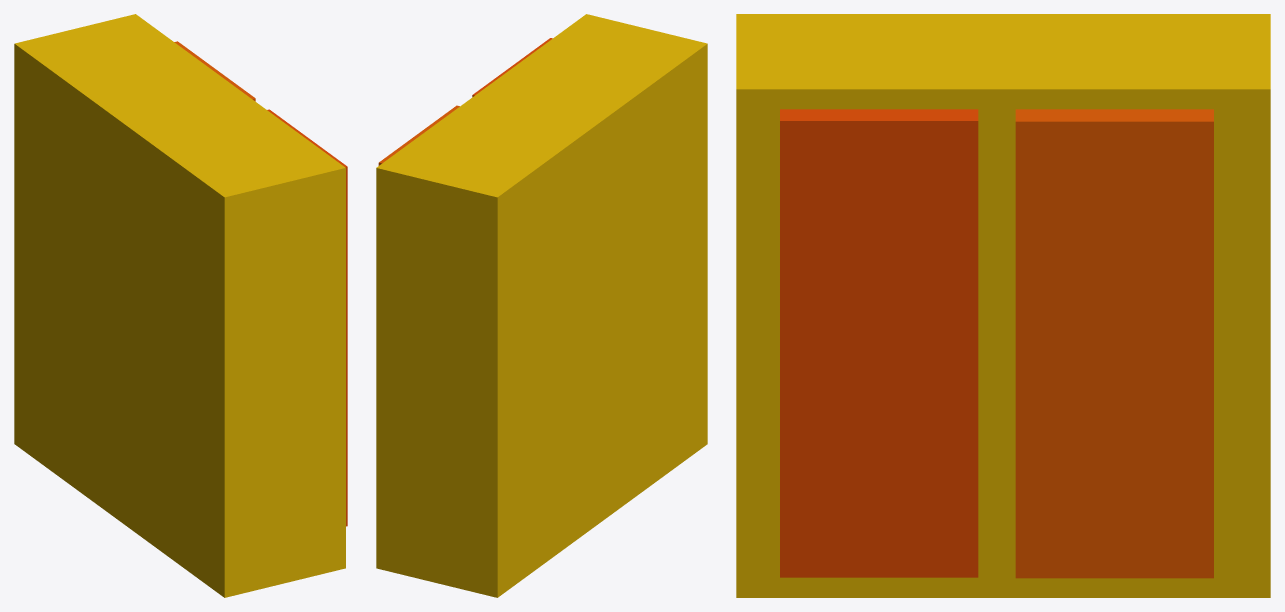
File: closet.fbx
3 renders of one model, left to right at view 1: azimuth 30°, elevation 25°; view 2: azimuth 150°, elevation 25°; view 3: azimuth 270°, elevation 25°, orthographic. The views are drawn at different scales.
Visible parts, largest first — view 1: Cube, Cube.002; view 2: Cube; view 3: Cube, Cube.001, Cube.002.
Part boxes in pixels (left/top/right/bottom): Cube: left=14, top=14, right=345, bottom=597; Cube.002: left=267, top=109, right=347, bottom=526; Cube: left=376, top=14, right=707, bottom=597; Cube: left=736, top=14, right=1270, bottom=597; Cube.001: left=1015, top=109, right=1213, bottom=578; Cube.002: left=780, top=109, right=978, bottom=577.
Size of the model in its own units: 409 by 1110 by 1056.
